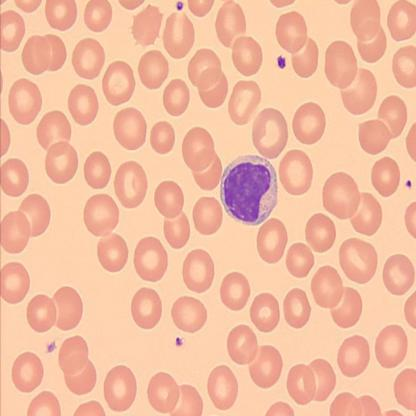Lymphocyte: (219, 154, 278, 226)
